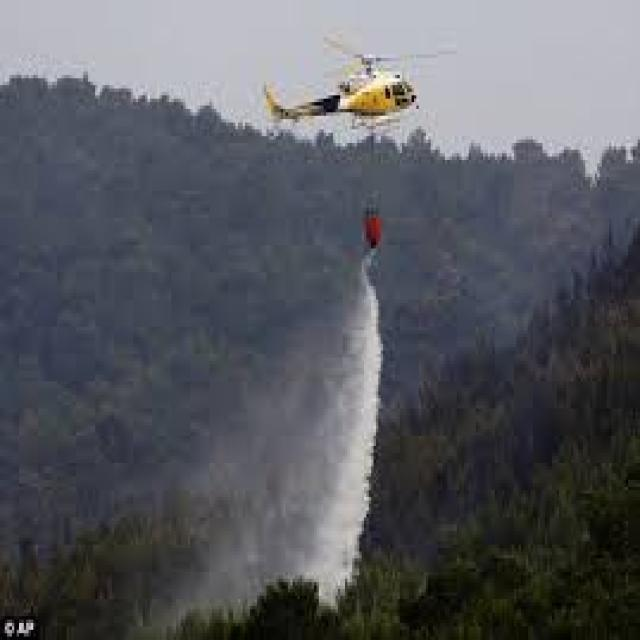Smoke: (143, 248, 384, 640)
